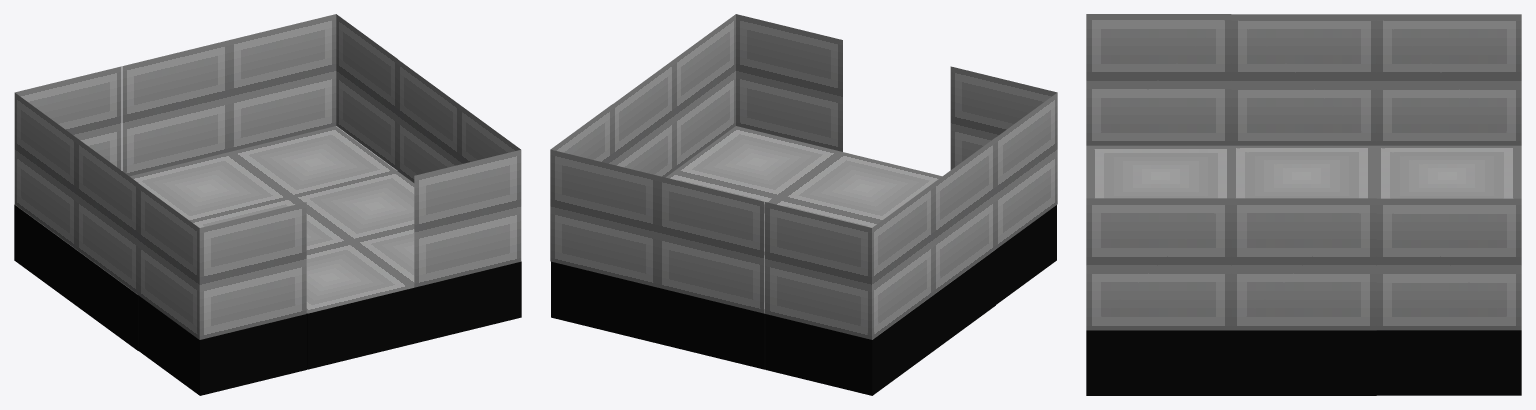
3 renders of one model, left to right at view 1: azimuth 30°, elevation 25°; view 2: azimuth 150°, elevation 25°; view 3: azimuth 270°, elevation 25°, orthographic. The views are drawn at different scales.
Visible parts, largest first — view 1: Cube.620; view 2: Cube.620; view 3: Cube.620.
Part boxes in pixels (x1,y1,x2,y2): Cube.620: (14, 14, 521, 395); Cube.620: (550, 14, 1057, 395); Cube.620: (1086, 14, 1521, 395).
Bounding box in the file's own units: 6.02 × 3 × 6.
2 materials, 1 textured.
